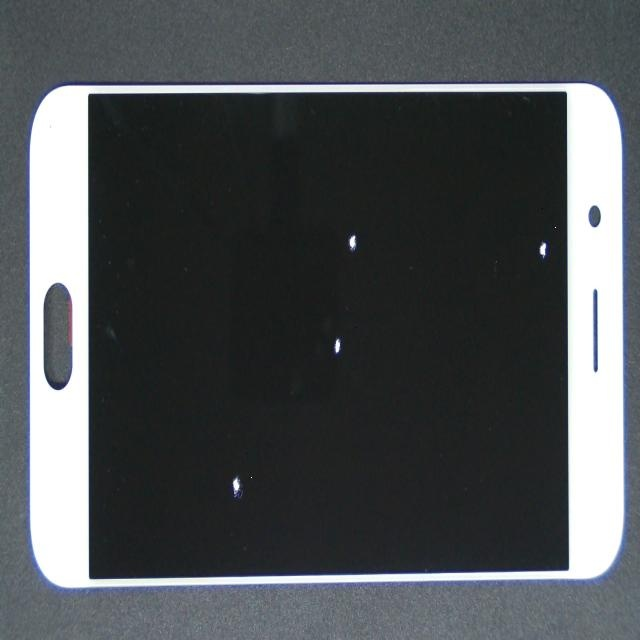stain: (164, 194, 492, 581), (247, 117, 640, 404), (72, 259, 338, 640), (182, 86, 516, 348)
